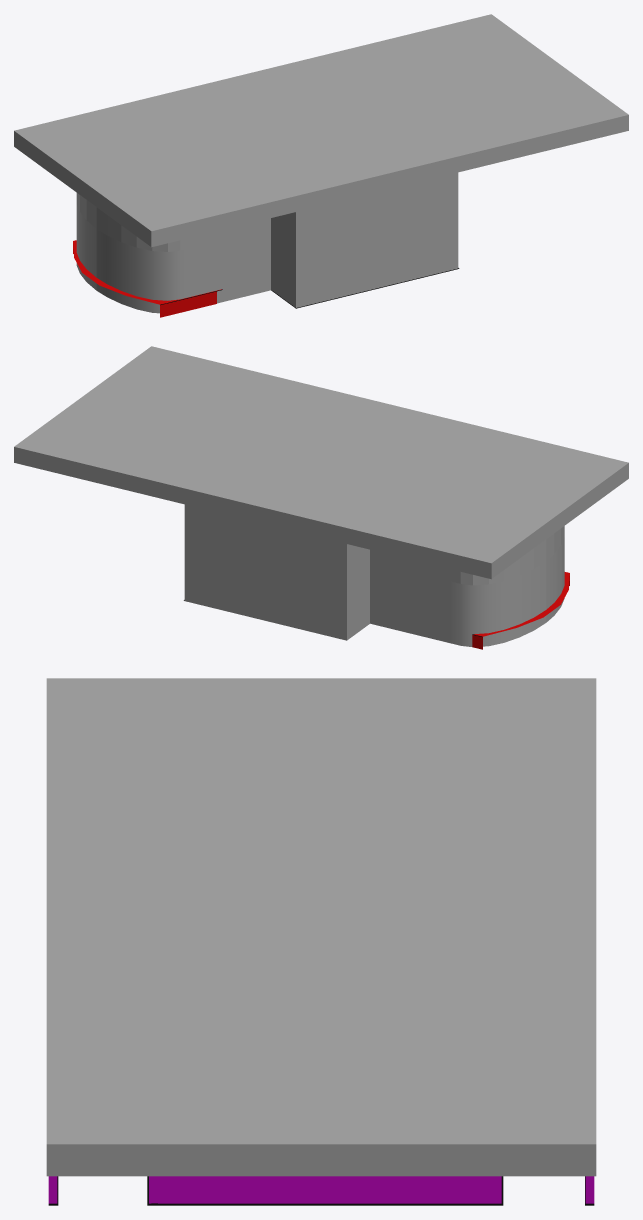
The model's file is WW_StageSeatingArea_Env_05.fbx.
3 renders of one model, top to bottom at view 1: azimuth 30°, elevation 25°; view 2: azimuth 150°, elevation 25°; view 3: azimuth 270°, elevation 25°, orthographic. The views are drawn at different scales.
Parts seen in each view (by area): view 1: RoofCube, StageCurve1, Stage; view 2: RoofCube, StageWalls17, StageCurve1, Stage; view 3: RoofCube, StageWalls16.
Boxes of the visible parts, bbox=[...] form: RoofCube: bbox=[14, 14, 628, 247]; StageCurve1: bbox=[76, 172, 459, 313]; Stage: bbox=[73, 240, 222, 317]; RoofCube: bbox=[14, 346, 628, 579]; StageWalls17: bbox=[183, 504, 369, 640]; StageCurve1: bbox=[370, 526, 564, 646]; Stage: bbox=[472, 572, 569, 649]; RoofCube: bbox=[46, 678, 596, 1176]; StageWalls16: bbox=[156, 1176, 503, 1205].
Bounding box in the file's own units: 4042 × 921 × 2016.
